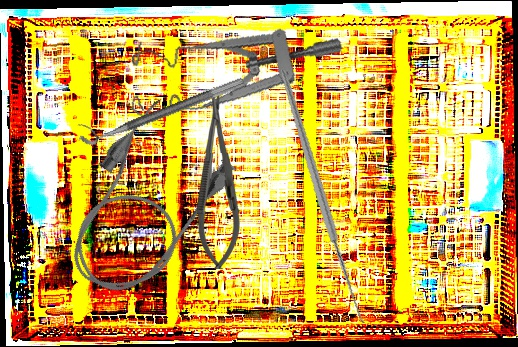Cannula: (40, 91, 246, 315)
Fixation Ring: (74, 63, 246, 150)
Hook Surgical: (227, 68, 429, 327)
Needle Holder: (194, 94, 242, 270)
Speculum: (119, 0, 345, 155)
